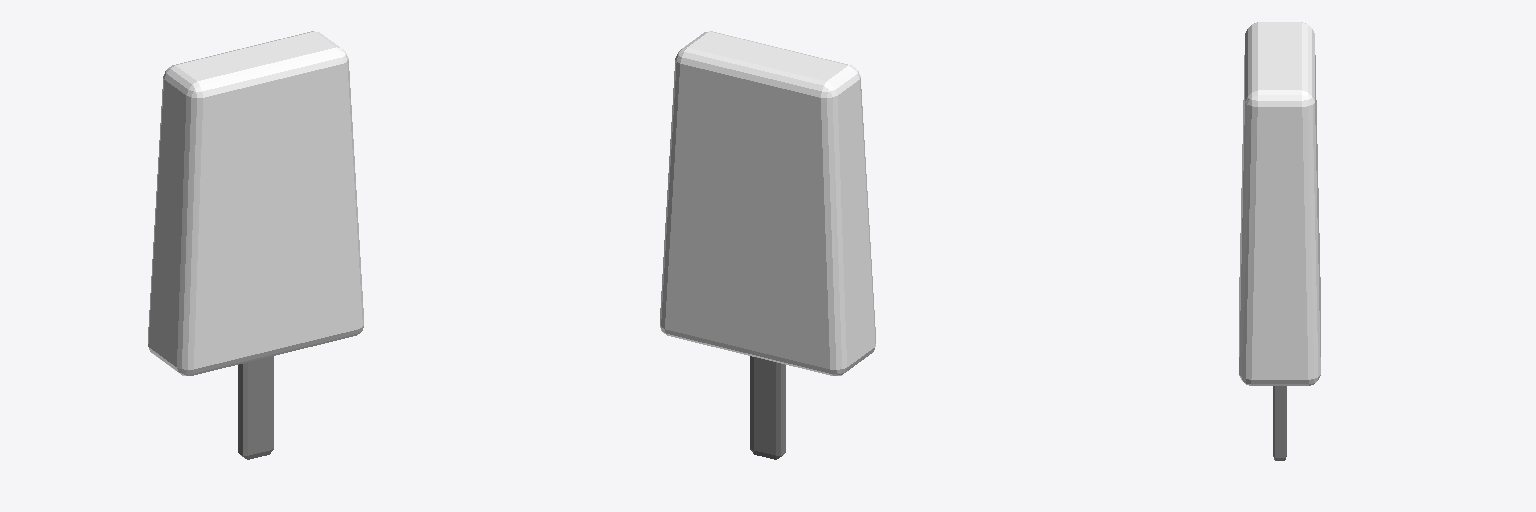
The picture shows the model from 3 angles: view 1: azimuth 30°, elevation 25°; view 2: azimuth 150°, elevation 25°; view 3: azimuth 270°, elevation 25°; orthographic projection.
Size of the model in its own units: 0.9988 by 2.04 by 0.3784.
1 materials, 1 textured.